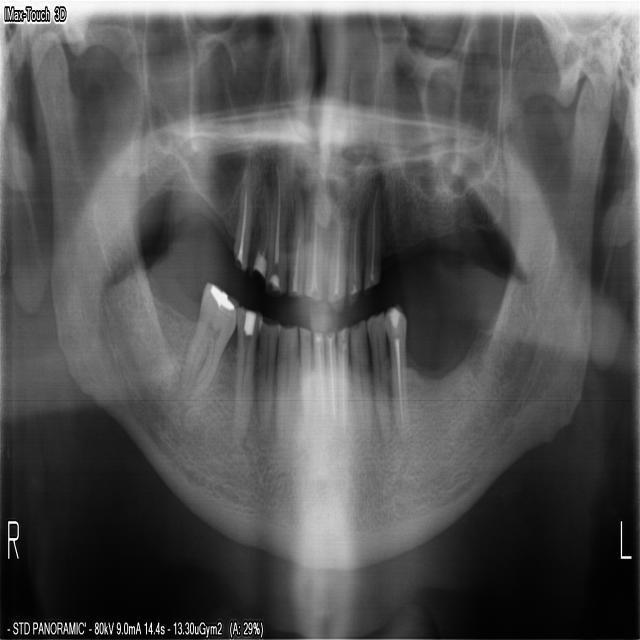LCD: (348, 317, 372, 453)
LCU: (361, 177, 381, 297)
LID: (336, 321, 349, 429), (324, 327, 337, 422)
LIU: (324, 193, 348, 313), (345, 197, 363, 308)
LPMD: (385, 297, 413, 445), (365, 309, 393, 446)
RCD: (274, 319, 298, 439)
RCU: (262, 160, 286, 296)
RID: (312, 328, 327, 421), (298, 323, 309, 421)
RIU: (301, 193, 322, 303), (286, 182, 303, 298)
RMD: (178, 278, 238, 404)
RPMD: (232, 303, 259, 444), (255, 314, 276, 442)
RPMU: (245, 158, 268, 278), (230, 157, 250, 271)
